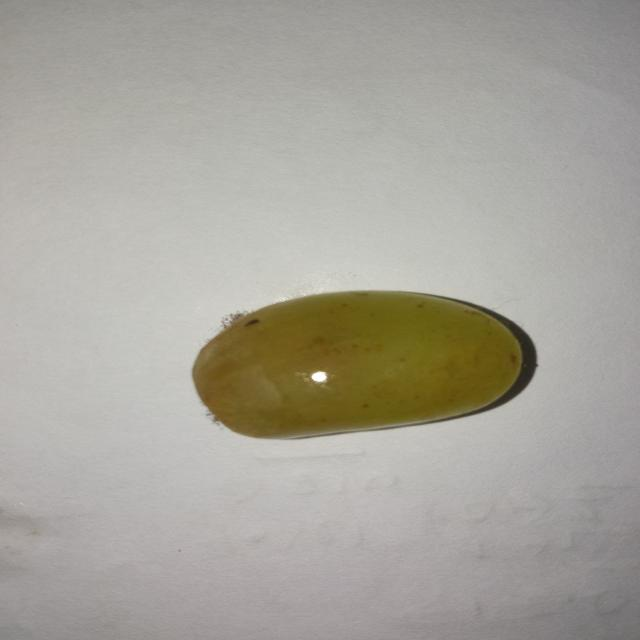fresh_grape: (192, 291, 523, 437)
